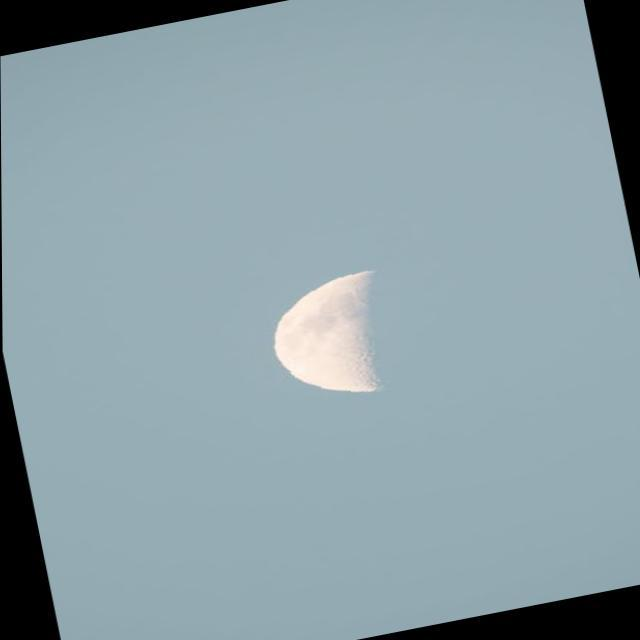moon: (236, 240, 467, 425)
